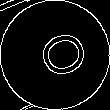O_W: (24, 26, 86, 84)
